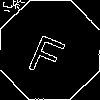F: (25, 25, 71, 79)
